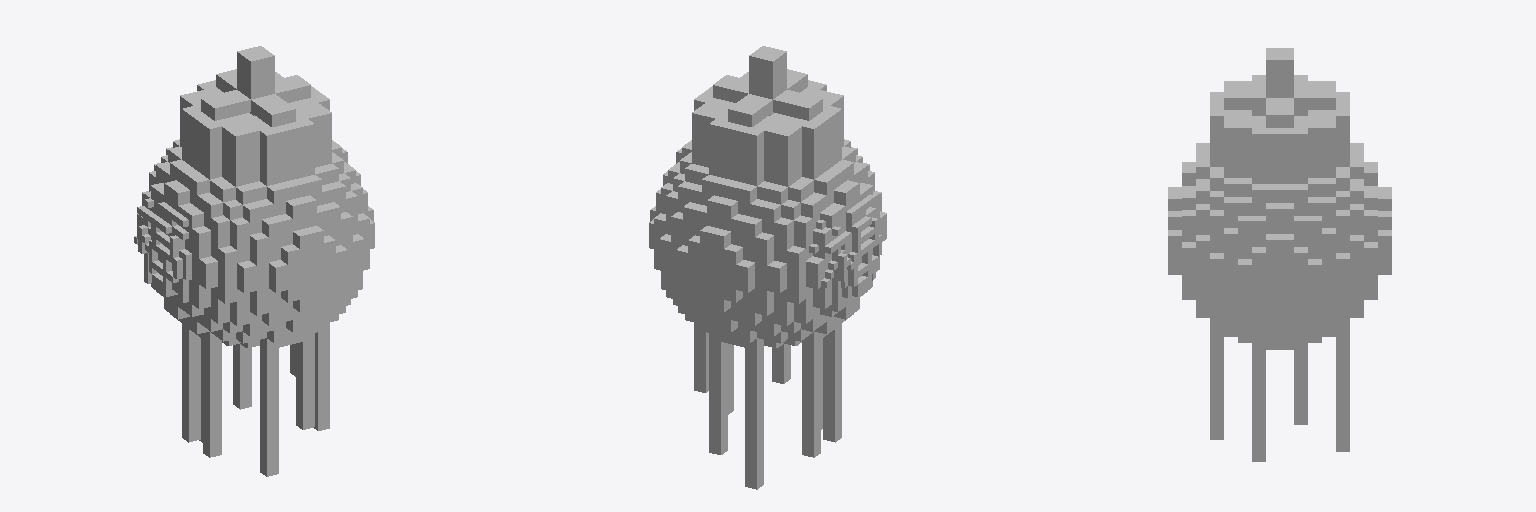
The model's file is lantern.obj.
3 views of the same model, side by side, from view 1: azimuth 30°, elevation 25°; view 2: azimuth 150°, elevation 25°; view 3: azimuth 270°, elevation 25° (orthographic).
Parts seen in each view (by area): view 1: minecraft_wool_colored_red_-1, minecraft_wool_colored_yellow_-1, minecraft_iron_block_-1; view 2: minecraft_wool_colored_red_-1, minecraft_wool_colored_yellow_-1, minecraft_iron_block_-1; view 3: minecraft_wool_colored_red_-1, minecraft_wool_colored_yellow_-1, minecraft_iron_block_-1.
Part boxes in pixels (bbox=[...]): minecraft_wool_colored_red_-1: bbox=[137, 113, 374, 347]; minecraft_wool_colored_yellow_-1: bbox=[134, 72, 331, 476]; minecraft_iron_block_-1: bbox=[201, 46, 310, 126]; minecraft_wool_colored_red_-1: bbox=[649, 113, 886, 347]; minecraft_wool_colored_yellow_-1: bbox=[692, 72, 881, 489]; minecraft_iron_block_-1: bbox=[713, 46, 822, 126]; minecraft_wool_colored_red_-1: bbox=[1168, 143, 1391, 349]; minecraft_wool_colored_yellow_-1: bbox=[1210, 75, 1349, 461]; minecraft_iron_block_-1: bbox=[1224, 48, 1335, 127].
Size of the model in its own units: 1 by 2 by 1.